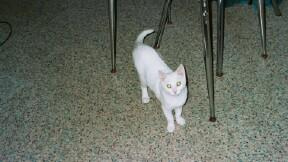cat: (131, 28, 189, 134)
